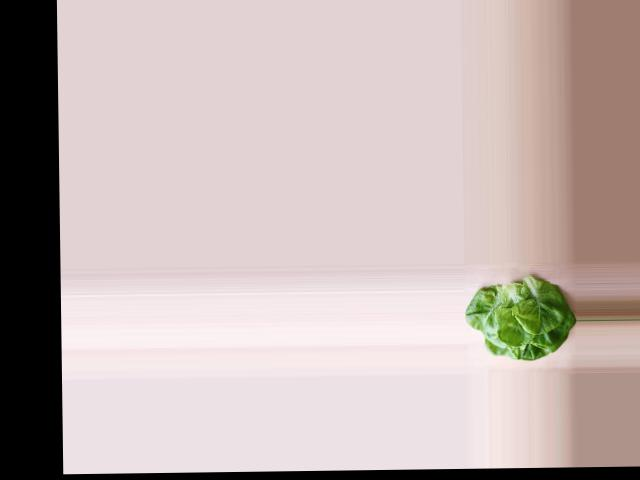lettuce: (468, 278, 574, 361)
